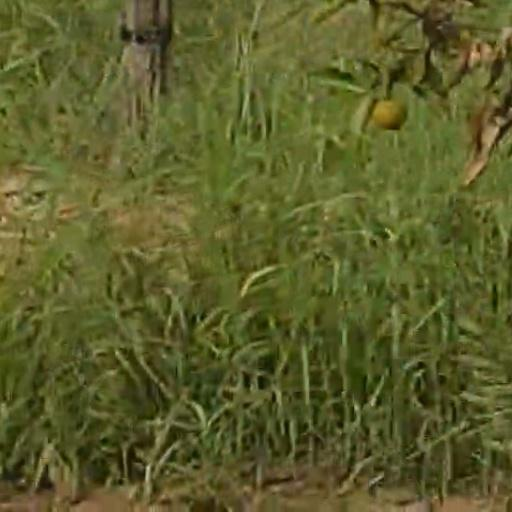acerola: (373, 102, 405, 129)
